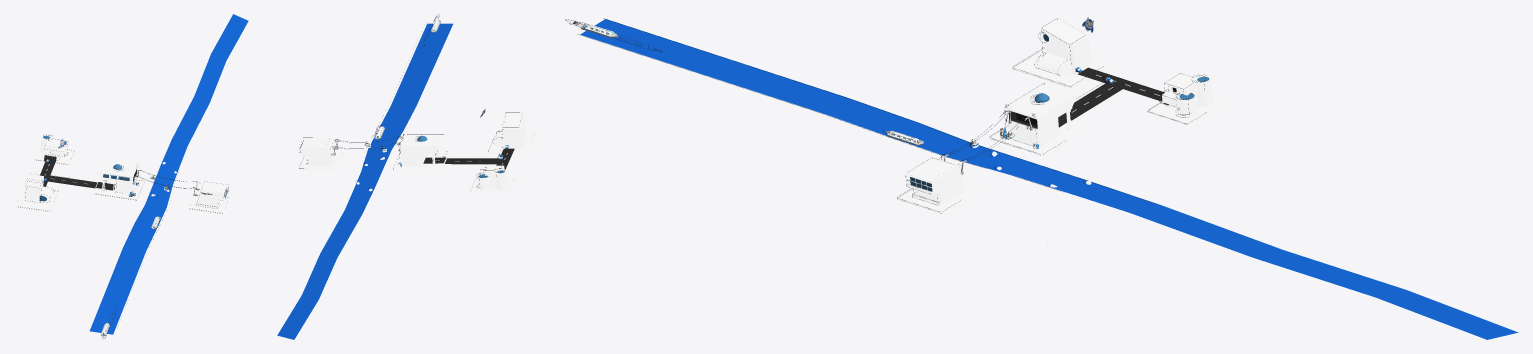
File: mobile.glb
3 views of the same model, side by side, from view 1: azimuth 30°, elevation 25°; view 2: azimuth 210°, elevation 25°; view 3: azimuth 270°, elevation 25° (orthographic). The views are drawn at different scales.
Parts seen in each view (by area): view 1: Plane.006, Cube.001, Cube.002, GP_Layer, Plane.007, Plane.008, Cube, Plane.001, Plane.009, Plane, Plane.005, Cube.074; view 2: Plane.006, Cube.001, Cube.002, Cube, Plane.008, GP_Layer, Plane.001, Plane.007, Plane.009, Plane, Cylinder.005, Plane.005; view 3: Plane.006, Cube.001, Cube.002, GP_Layer, Cube, Plane.007, Plane.008, Plane.005, Plane.001, Plane.009, Plane.
Part boxes in pixels (left/top/right/bottom): Plane.006: left=90, top=14, right=248, bottom=334; Cube.001: left=96, top=161, right=137, bottom=194; Cube.002: left=194, top=181, right=226, bottom=208; GP_Layer: left=18, top=135, right=228, bottom=239; Plane.007: left=14, top=186, right=56, bottom=211; Plane.008: left=93, top=177, right=142, bottom=200; Cube: left=23, top=174, right=43, bottom=202; Plane.001: left=48, top=175, right=97, bottom=188; Plane.009: left=187, top=193, right=227, bottom=213; Plane: left=32, top=145, right=72, bottom=164; Plane.005: left=40, top=161, right=55, bottom=186; Cube.074: left=43, top=139, right=60, bottom=151; Plane.006: left=277, top=23, right=452, bottom=339; Cube.001: left=400, top=135, right=445, bottom=166; Cube.002: left=301, top=139, right=337, bottom=166; Cube: left=503, top=114, right=526, bottom=148; Plane.008: left=394, top=152, right=448, bottom=171; GP_Layer: left=299, top=78, right=522, bottom=207; Plane.001: left=445, top=158, right=499, bottom=164; Plane.007: left=489, top=133, right=536, bottom=153; Plane.009: left=300, top=154, right=344, bottom=170; Plane: left=472, top=179, right=516, bottom=192; Cylinder.005: left=495, top=169, right=507, bottom=190; Plane.005: left=496, top=148, right=514, bottom=169; Plane.006: left=580, top=19, right=1518, bottom=339; Cube.001: left=1007, top=83, right=1078, bottom=147; Cube.002: left=908, top=158, right=966, bottom=205; GP_Layer: left=577, top=18, right=1208, bottom=213; Cube: left=1044, top=18, right=1091, bottom=74; Plane.007: left=1015, top=49, right=1110, bottom=87; Plane.008: left=992, top=120, right=1090, bottom=155; Plane.005: left=1077, top=67, right=1164, bottom=101; Plane.001: left=1060, top=83, right=1122, bottom=120; Plane.009: left=900, top=184, right=980, bottom=213; Plane: left=1150, top=96, right=1228, bottom=124.
Bounding box in the file's own units: 11.84 × 1.6 × 13.82.
Materials: 49 (1 with a texture image).
